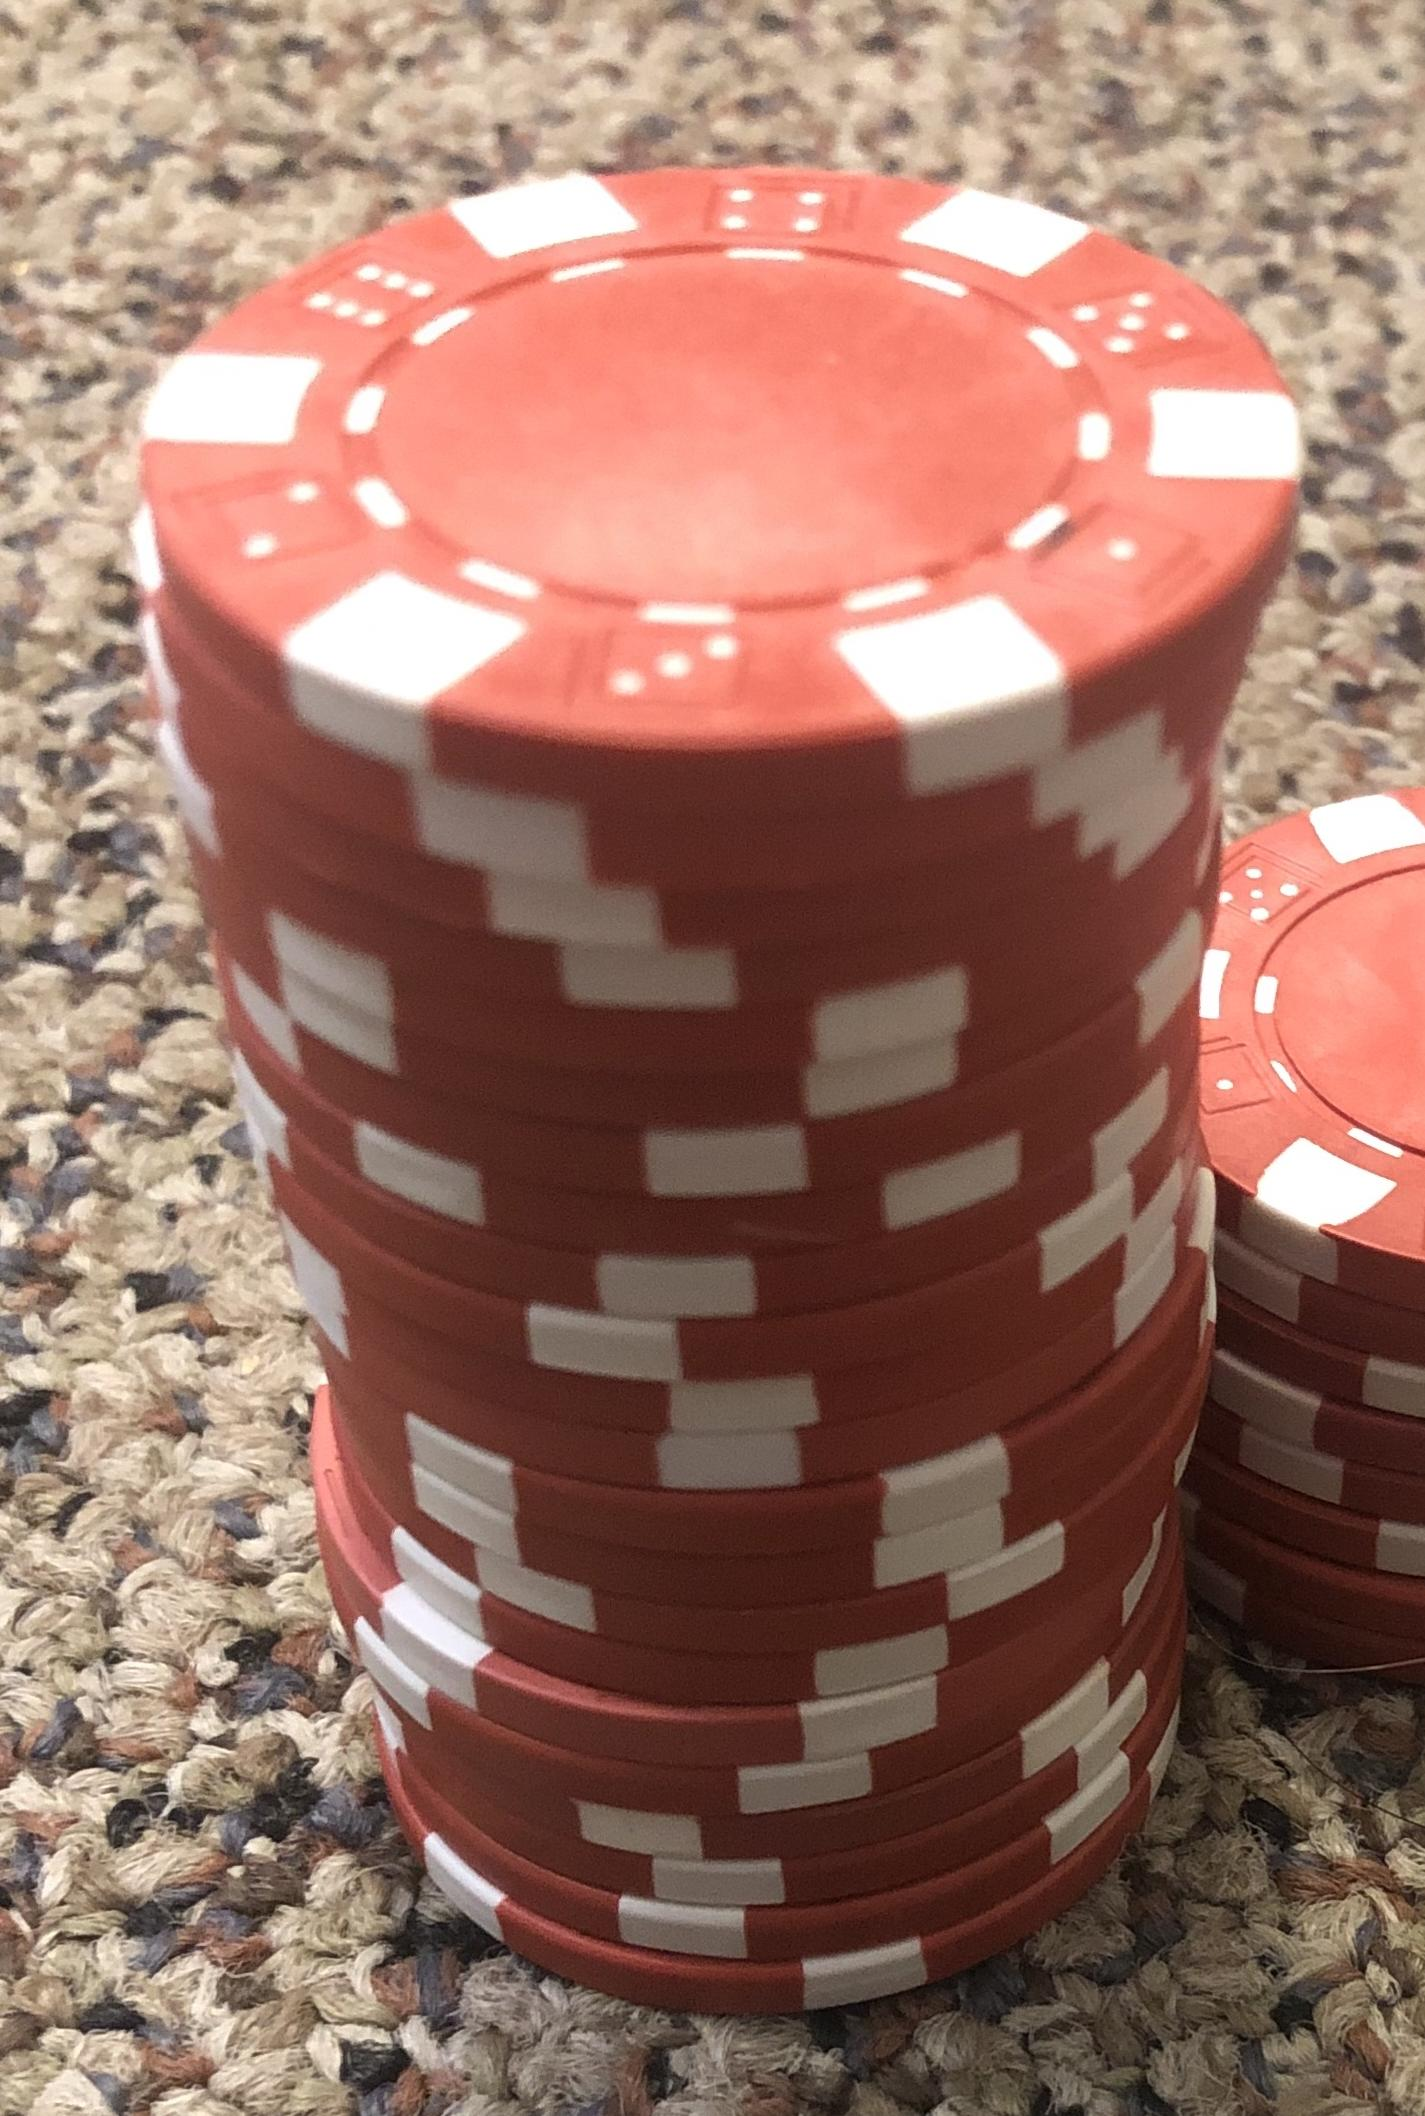Chip: (2, 2, 1425, 2116)
